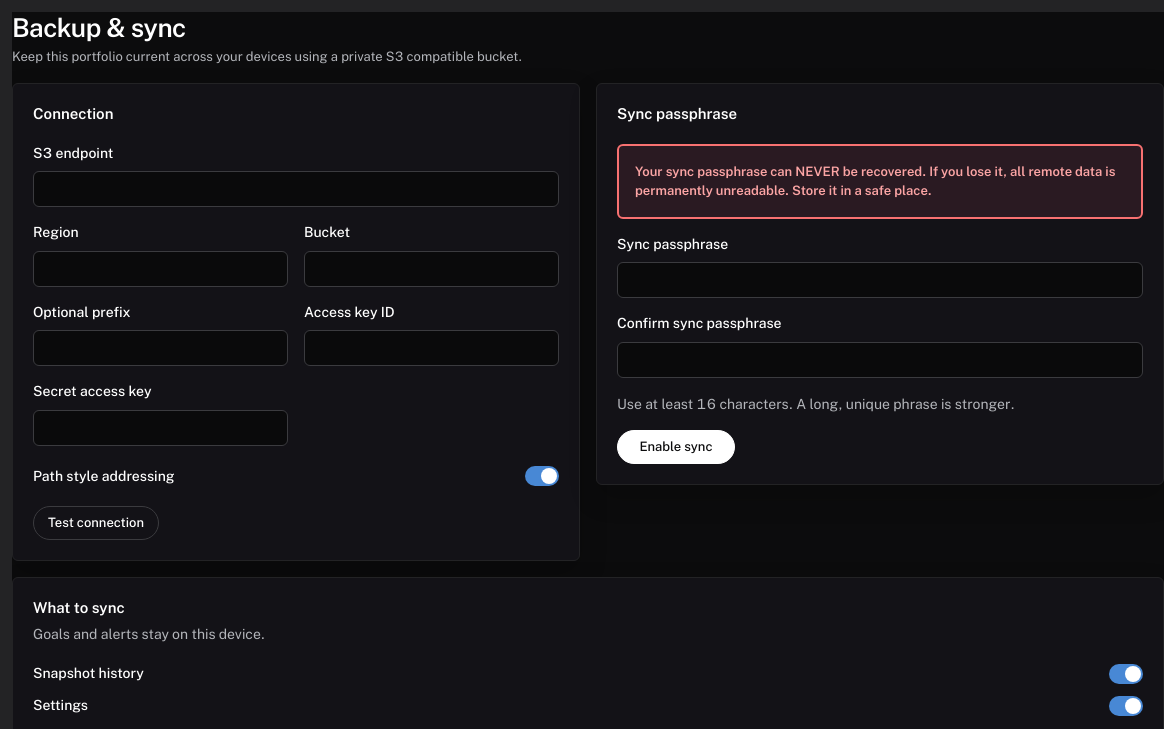
Scenario: Sync settings page › shows testing immediately, blocks a second test, and confirms success
Type "https://s3.example.test" into the field labelled "S3 endpoint" at [296, 189], box [33, 171, 559, 207]
Type "us-east-1" into the field labelled "Region" at [160, 269], box [33, 251, 288, 287]
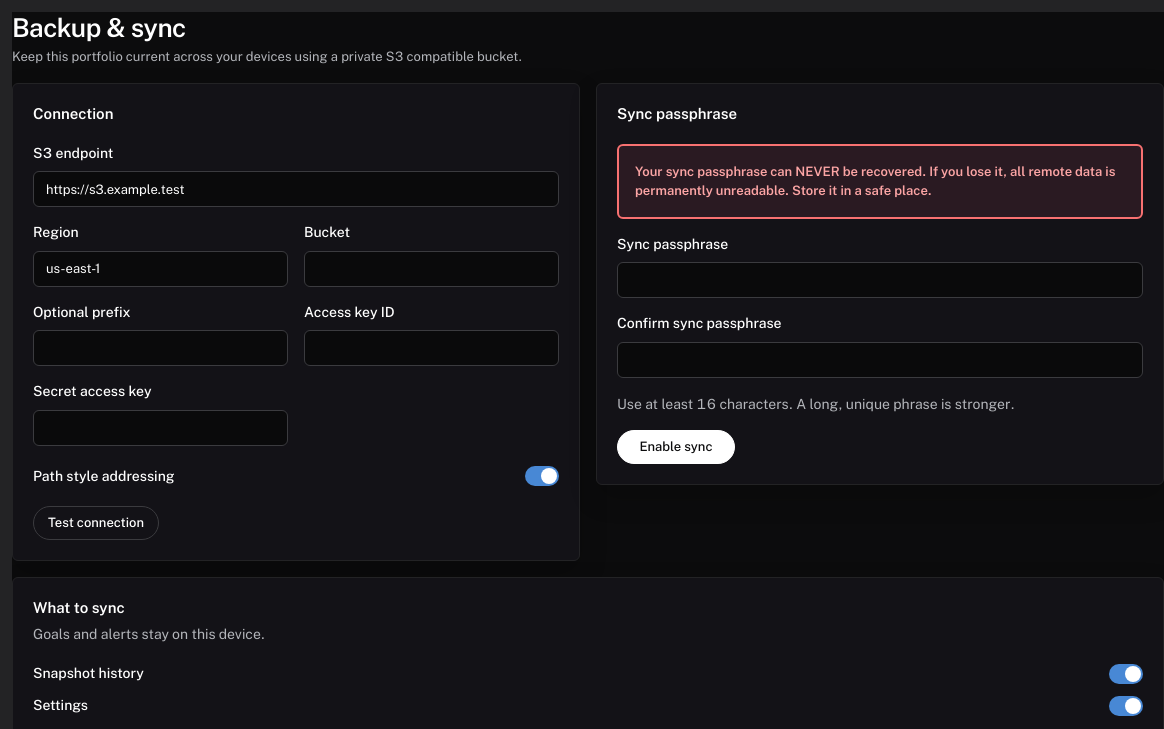
Type "track3" into the field labelled "Bucket" at [432, 269], box [304, 251, 559, 287]
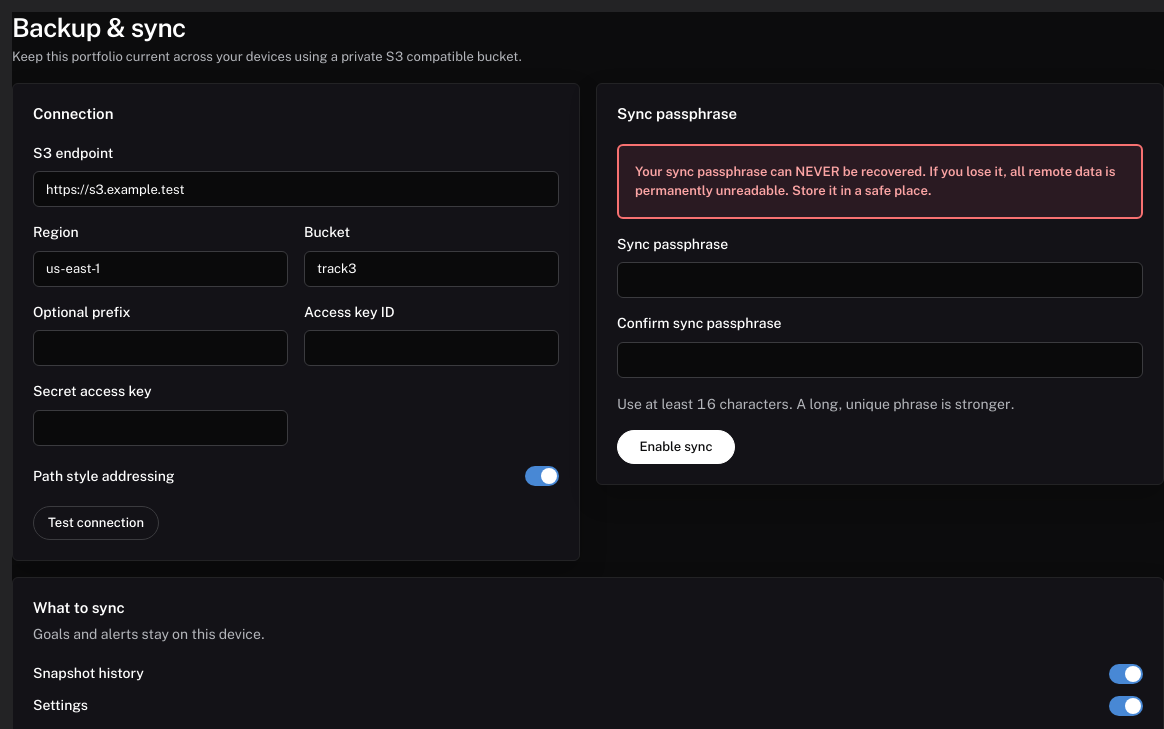
Type "key" into the password field labelled "Access key ID" at [432, 348], box [304, 330, 559, 366]
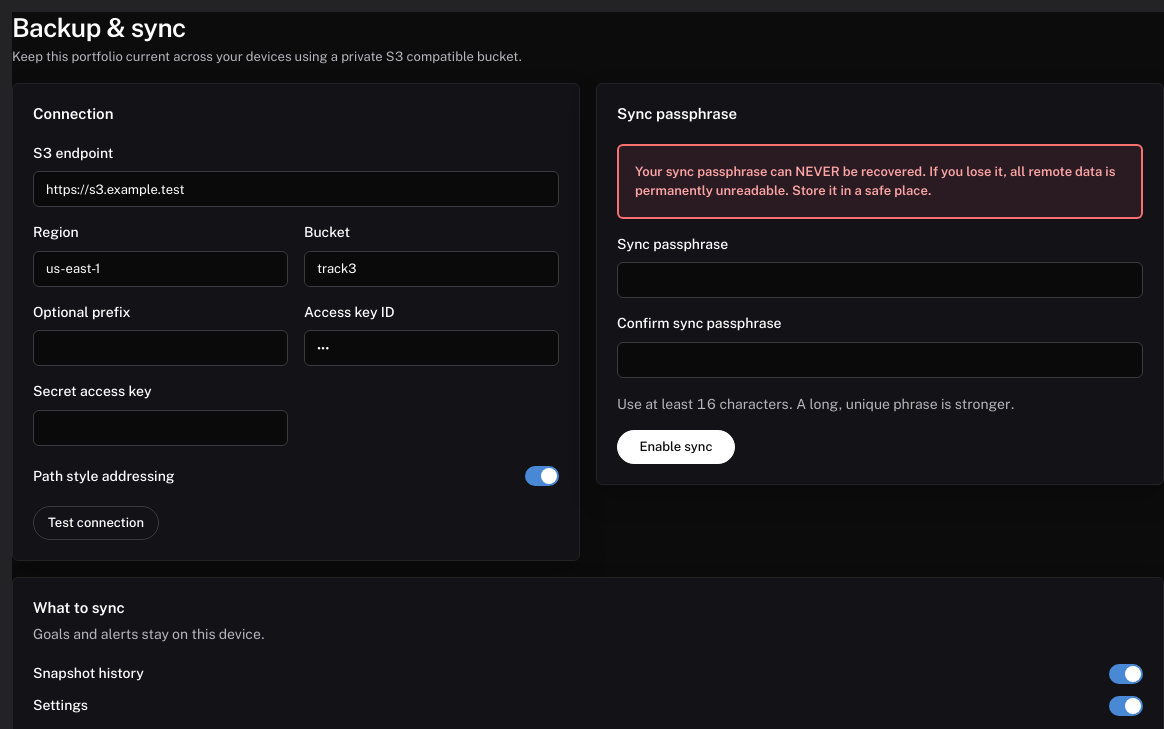
Type "secret" into the password field labelled "Secret access key" at [160, 428], box [33, 410, 288, 446]
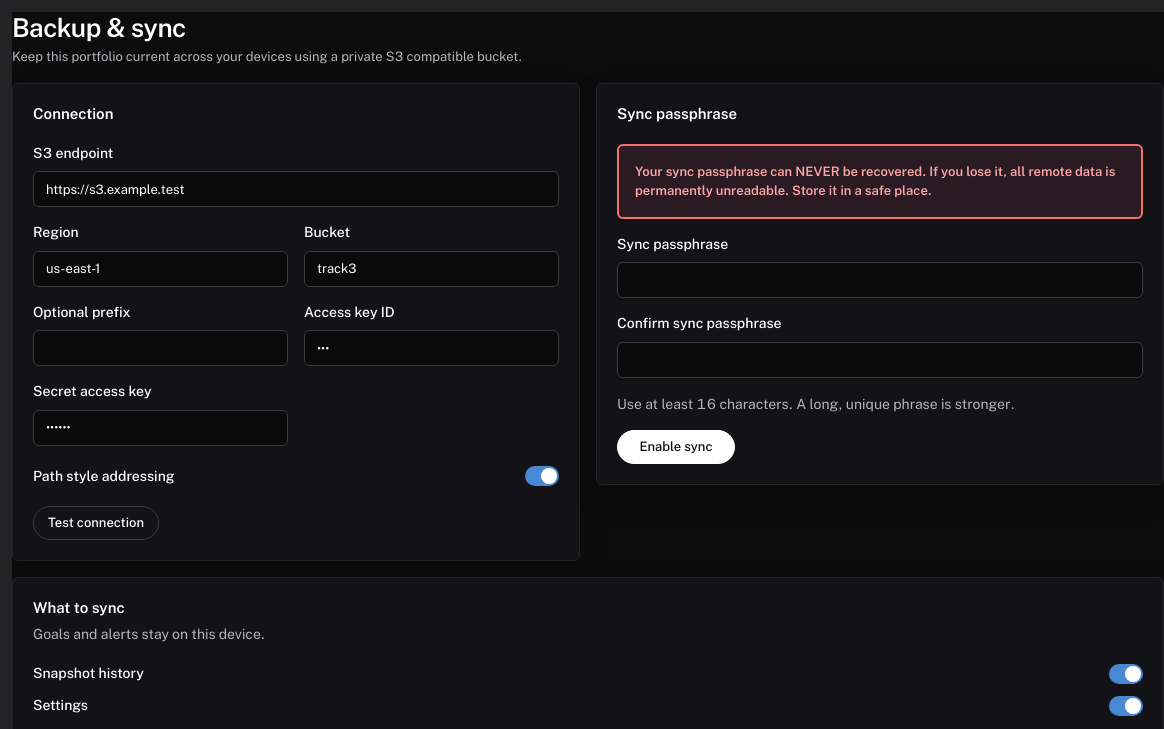
Click the button "Test connection" at [96, 523], box [33, 506, 159, 540]
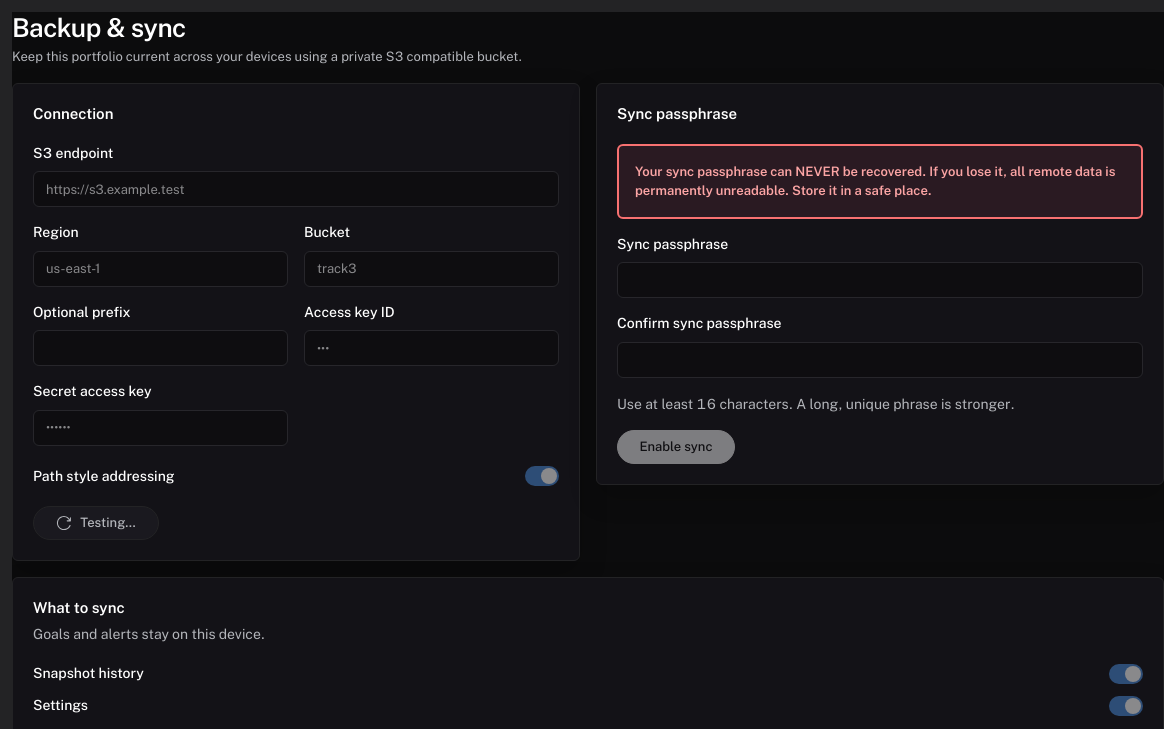
Check: the button "Testing…" is disabled
Click the button "Testing…" at [96, 523], box [33, 506, 159, 540]
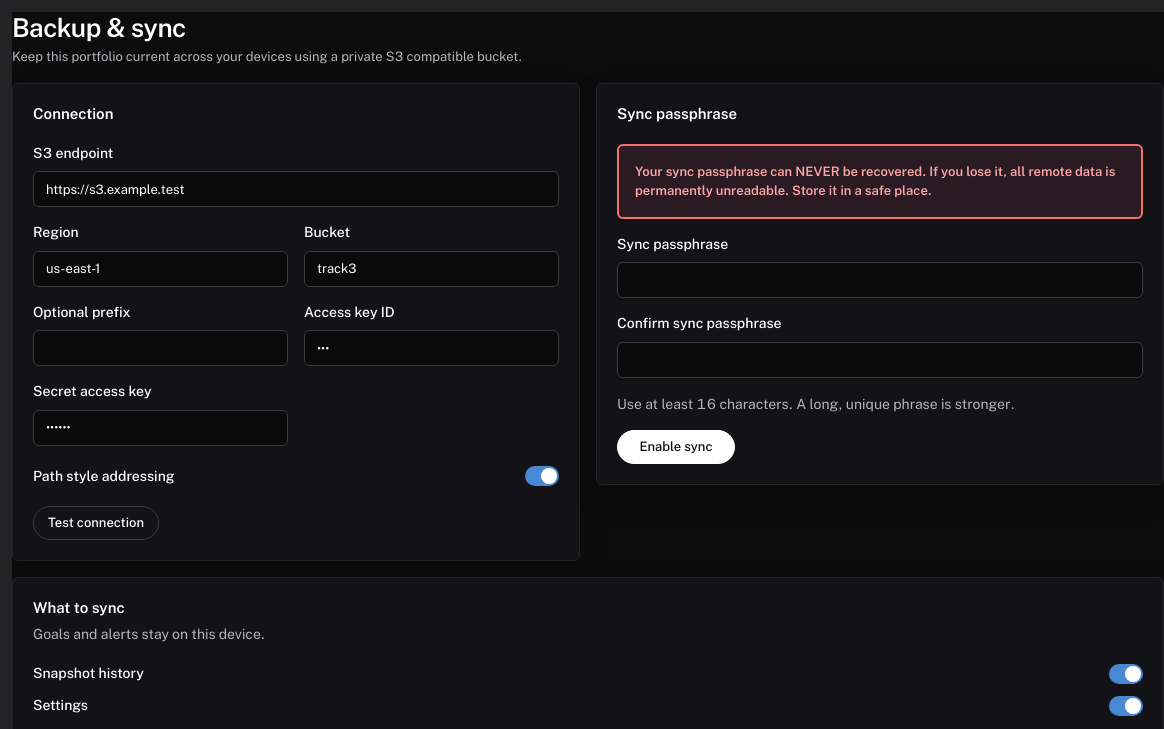
Check: the button "Test connection" is enabled, box [33, 506, 159, 540]
